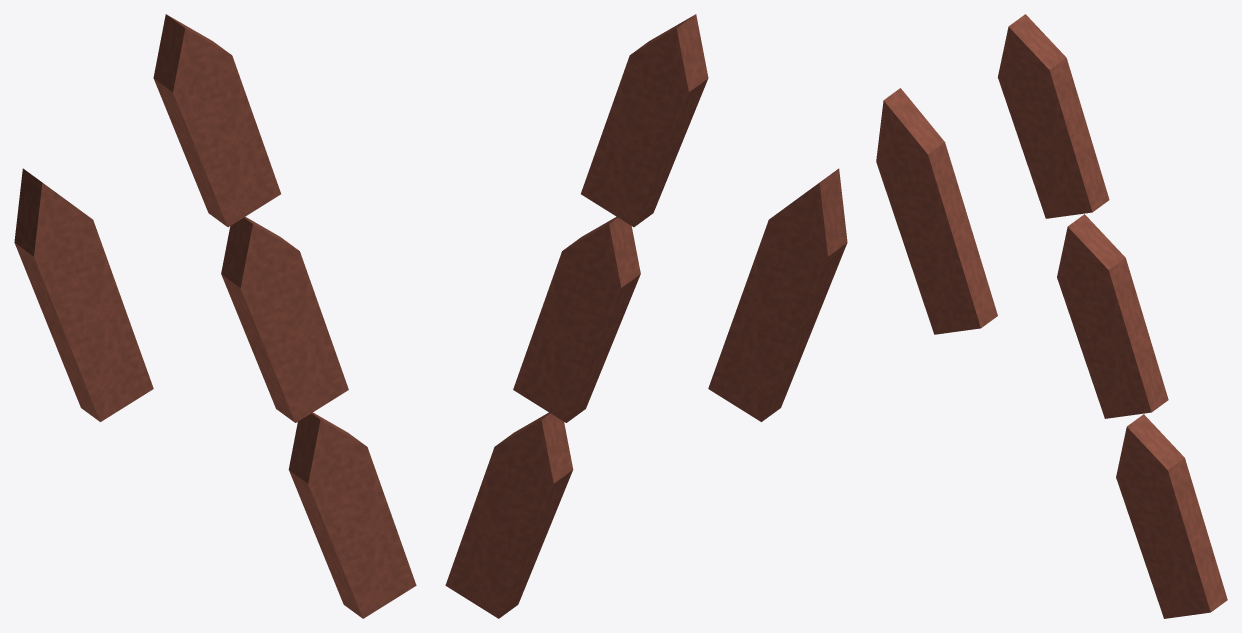
The model's file is gaogongdao_styled_red.obj.
The picture shows the model from 3 angles, left to right: view 1: azimuth 30°, elevation 25°; view 2: azimuth 150°, elevation 25°; view 3: azimuth 330°, elevation 25°; orthographic projection. The views are drawn at different scales.
Parts seen in each view (by area): view 1: harbor; view 2: harbor; view 3: harbor.
Part boxes in pixels (bbox=[...]): harbor: bbox=[14, 14, 416, 618]; harbor: bbox=[445, 14, 847, 618]; harbor: bbox=[876, 14, 1227, 618].
Size of the model in its own units: 16.98 by 26.89 by 1.5.
Materials: 1 (1 with a texture image).
